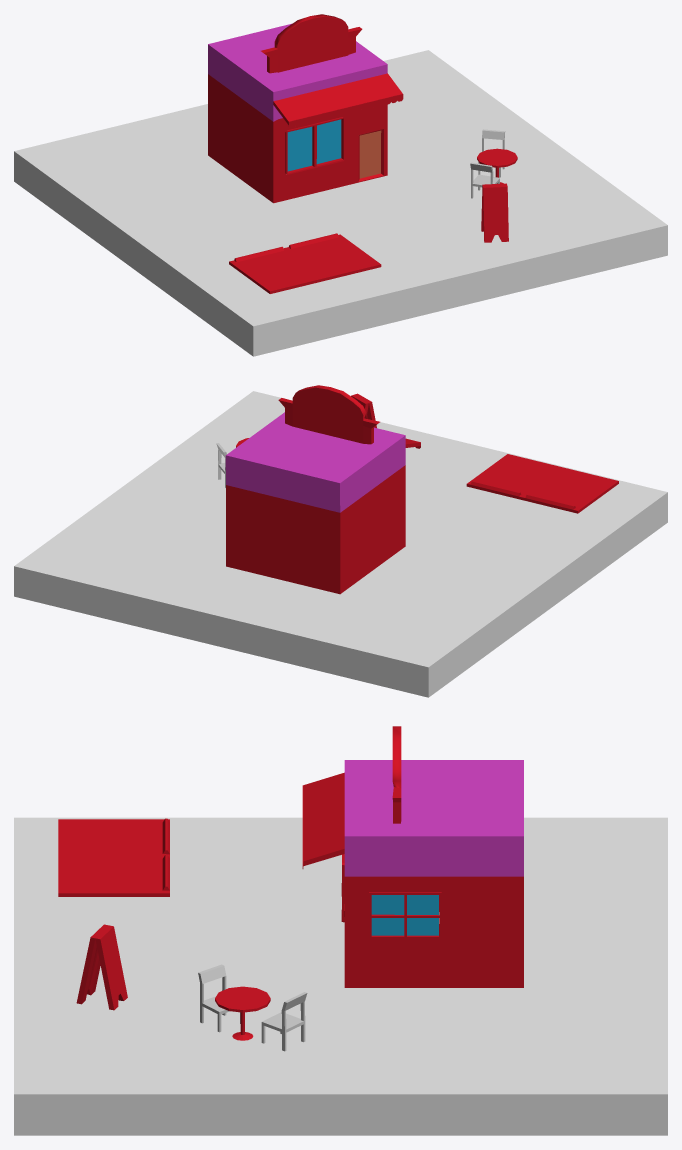
The model's file is vrcafe.fbx.
3 views of the same model, one above another, from view 1: azimuth 30°, elevation 25°; view 2: azimuth 150°, elevation 25°; view 3: azimuth 270°, elevation 25° (orthographic). The views are drawn at different scales.
Visible parts, largest first — view 1: Base, wall, parking spot, Sign, wall.002, Window, opensign, signs, door, Sign2, chair, table; view 2: Base, wall, parking spot, Sign2; view 3: Base, wall, parking spot, wall.002, opensign, Window, chair, table, signs, Sign2.
Part boxes in pixels (x1,y1,x2,y2): Base: [14, 50, 667, 356]; wall: [208, 23, 387, 203]; parking spot: [229, 233, 381, 293]; Sign: [277, 16, 348, 72]; wall.002: [273, 73, 402, 124]; Window: [287, 119, 341, 171]; opensign: [481, 183, 508, 242]; signs: [285, 117, 383, 181]; door: [359, 130, 381, 178]; Sign2: [261, 14, 362, 73]; chair: [470, 129, 505, 198]; table: [477, 148, 517, 183]; Base: [14, 391, 667, 697]; wall: [225, 412, 405, 594]; parking spot: [466, 454, 618, 513]; Sign2: [278, 385, 379, 444]; Base: [14, 817, 667, 1135]; wall: [344, 760, 523, 987]; parking spot: [58, 818, 169, 896]; wall.002: [303, 772, 344, 866]; opensign: [76, 924, 127, 1010]; Window: [371, 895, 438, 935]; chair: [198, 964, 307, 1051]; table: [215, 986, 270, 1040]; signs: [341, 854, 441, 939]; Sign2: [392, 726, 401, 823].
Bounding box in the file's own units: 400 × 174 × 400.
